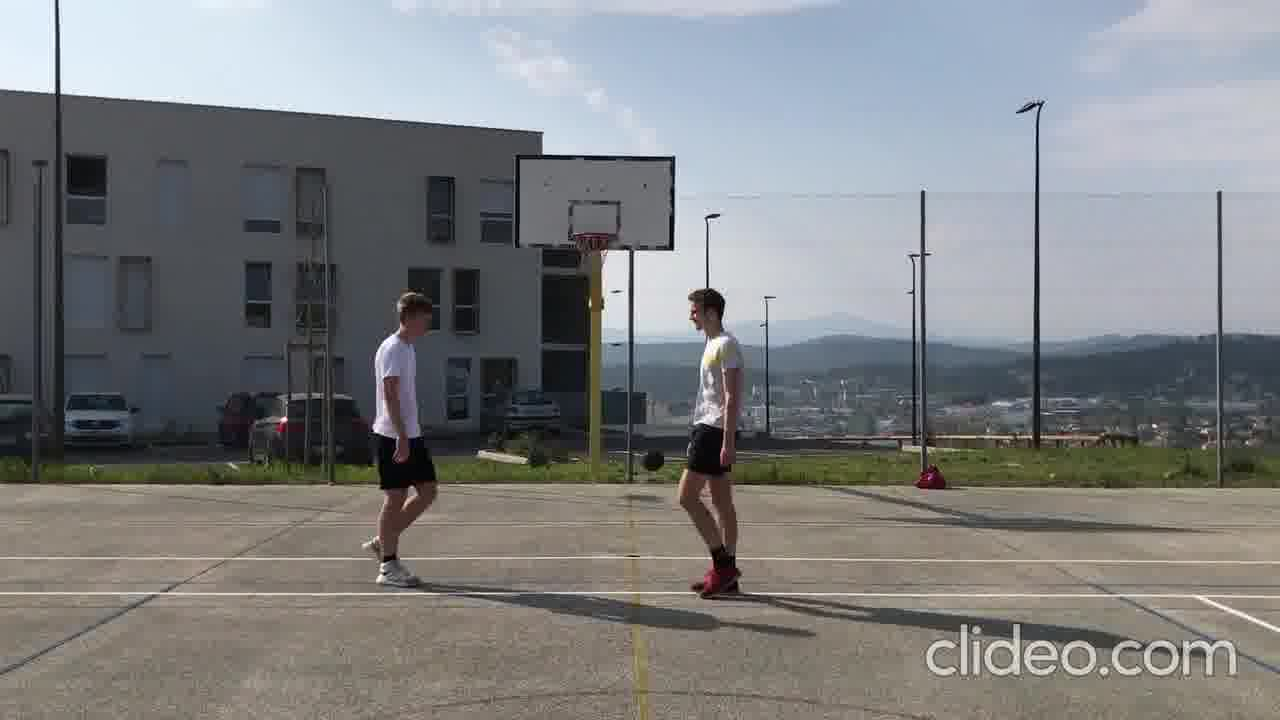jugador: (661, 279, 761, 608)
